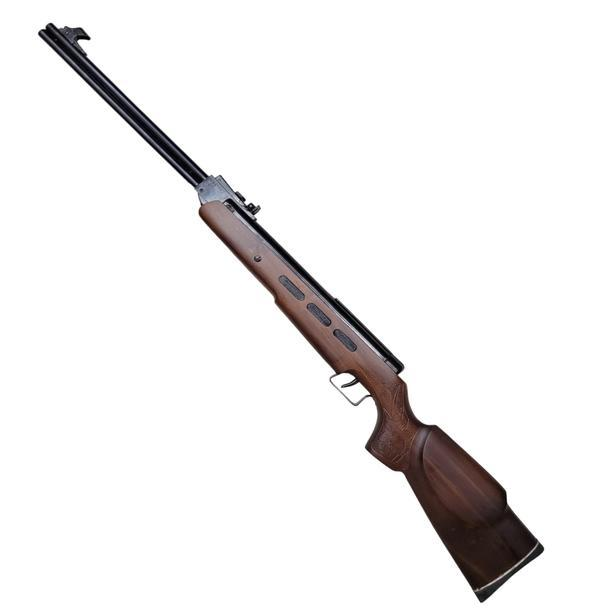Firearm: (28, 17, 552, 604)
